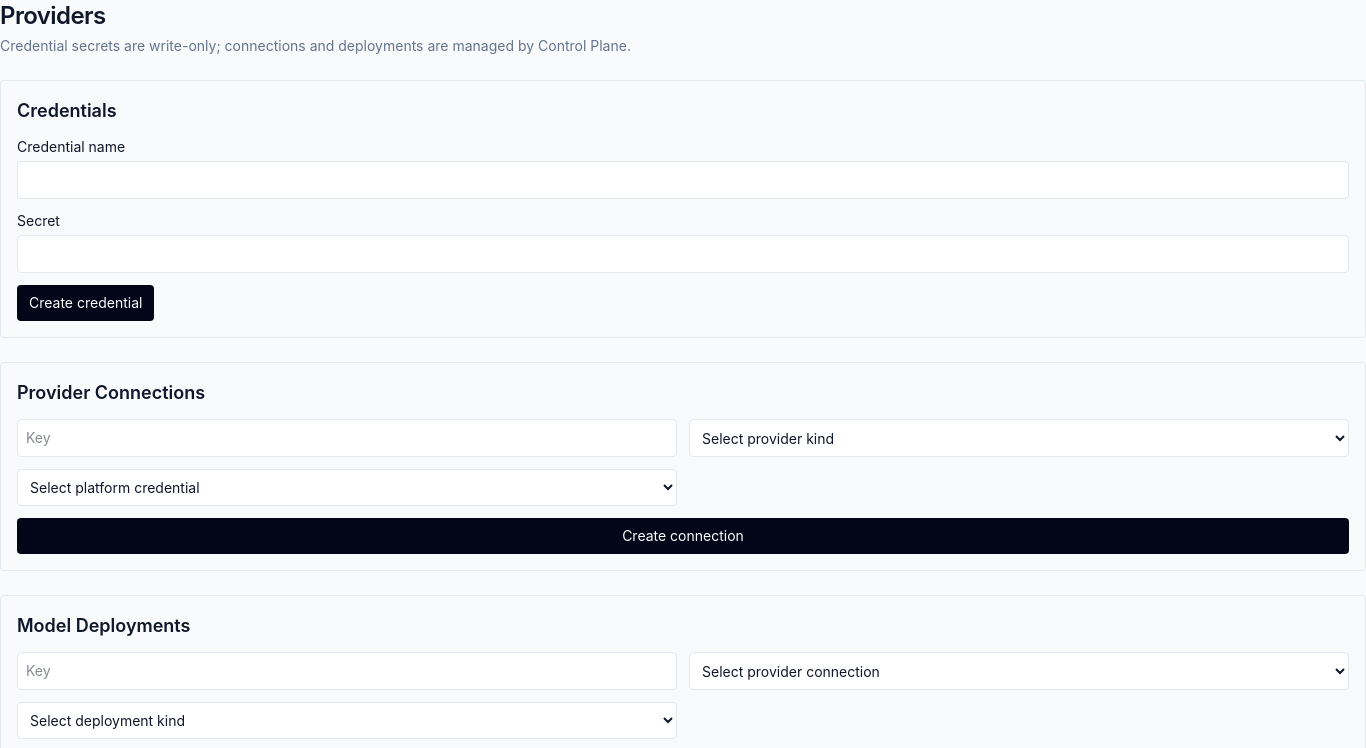
Test case: Admin Web Slice B provider provisioning › renders structured 422 and 412 errors for resource mutations
The image size is (1366, 748).
Type "Duplicate" into the field labelled "Credential name". click: (683, 180)
box: [17,161,1349,199]
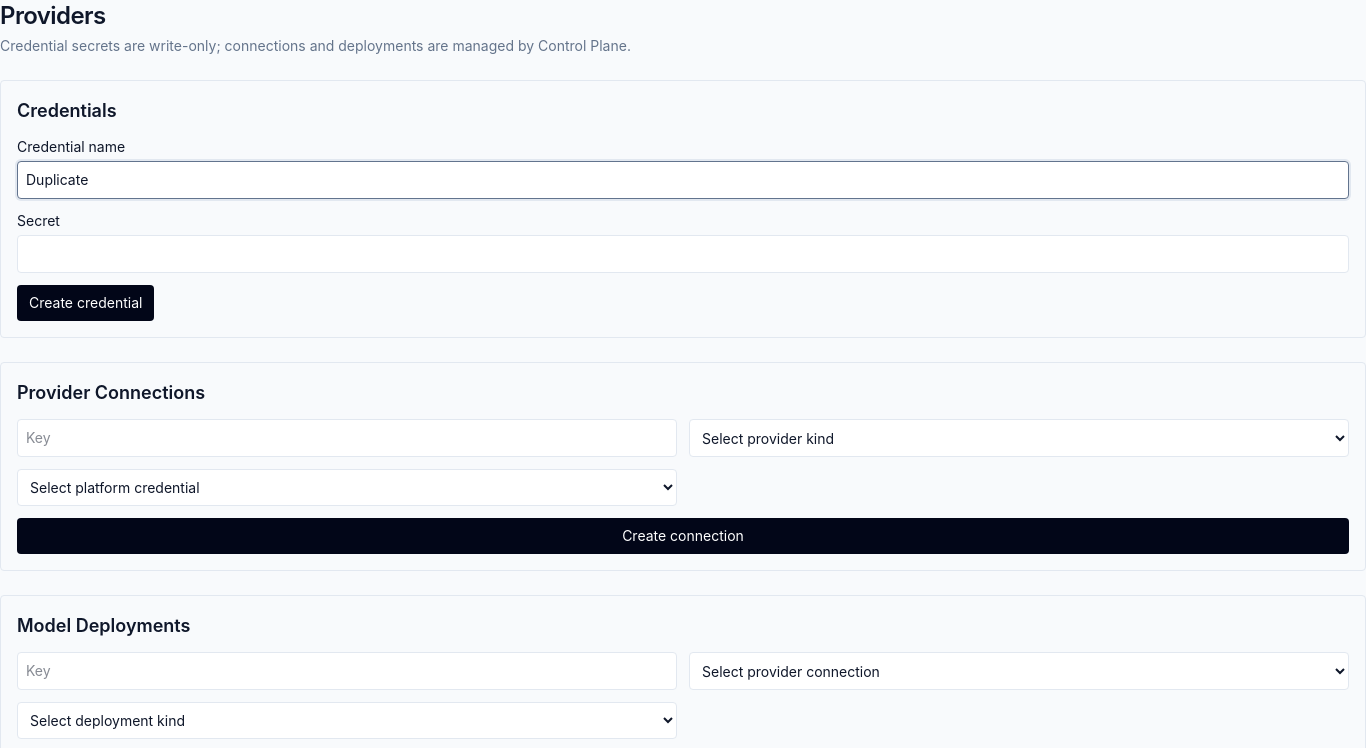
Type "secret" into the password field labelled "Secret". click: (683, 254)
box: [17,235,1349,273]
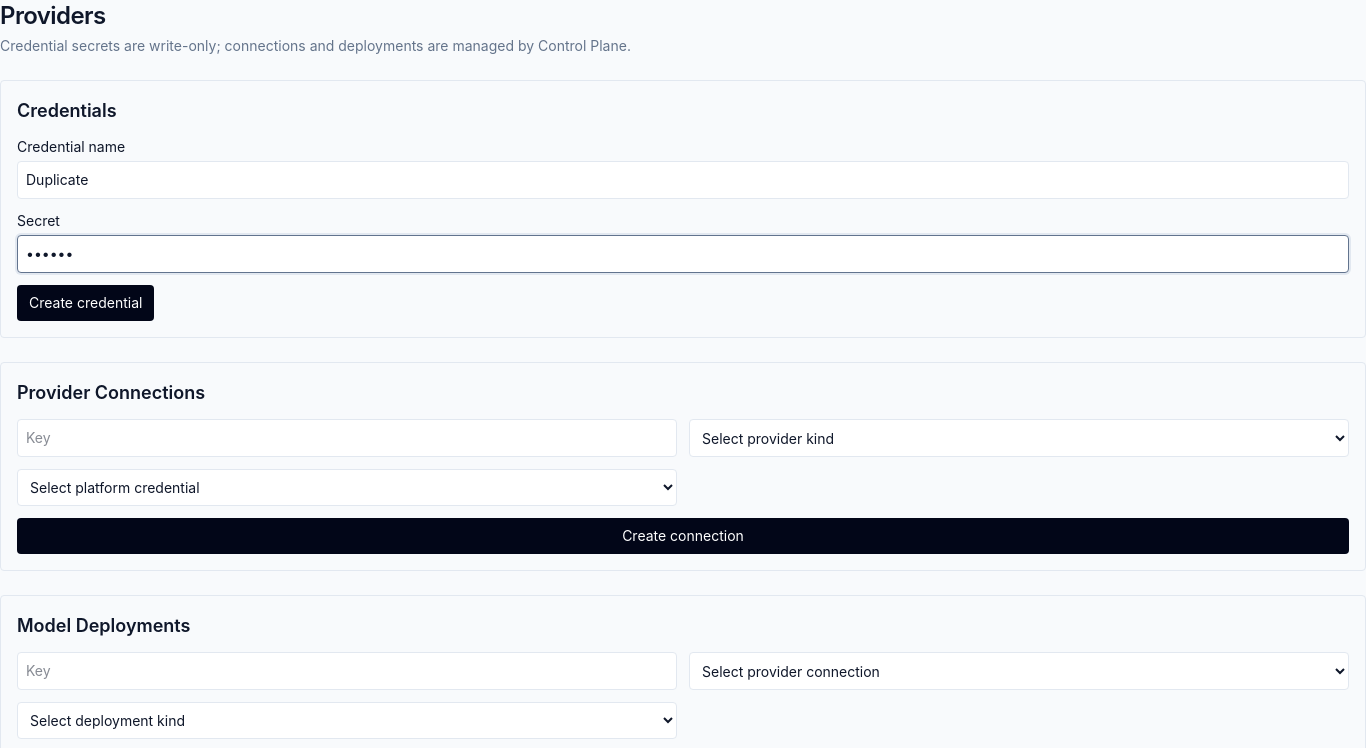
Click the button "Create credential". click: click(86, 303)
box: [17,285,154,321]
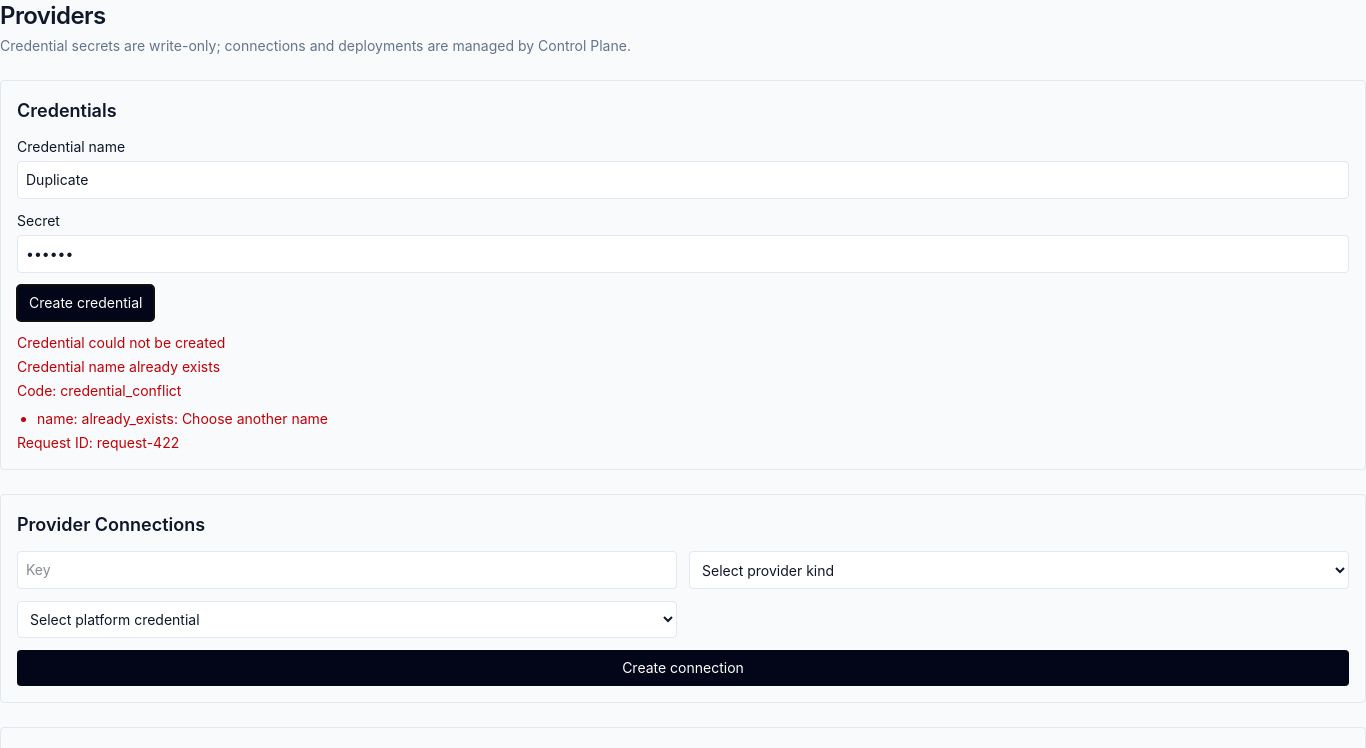
Check: the text "Credential name already exists" is shown, box [17,358,220,375]
Check: the text "Code: credential_conflict" is shown, box [17,382,181,399]
Check: the list item "name: already_exists: Choose another name" is shown, box [37,410,328,427]
